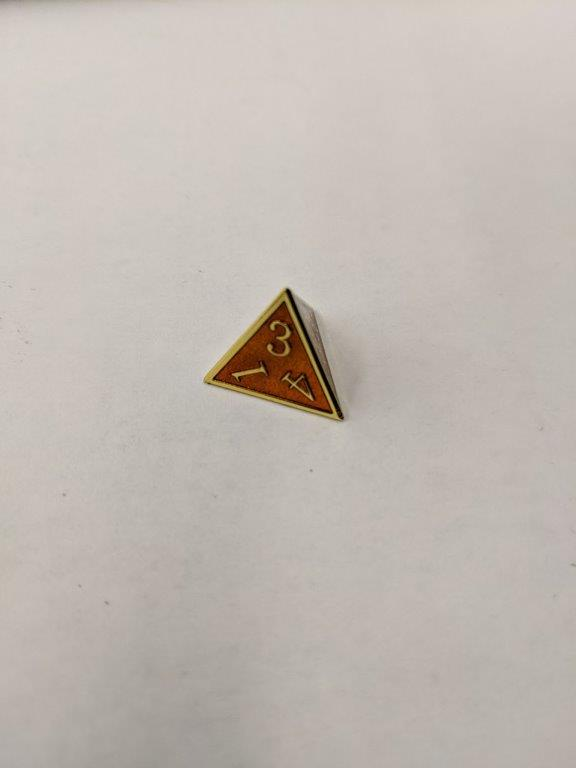d4-3: (202, 286, 354, 426)
